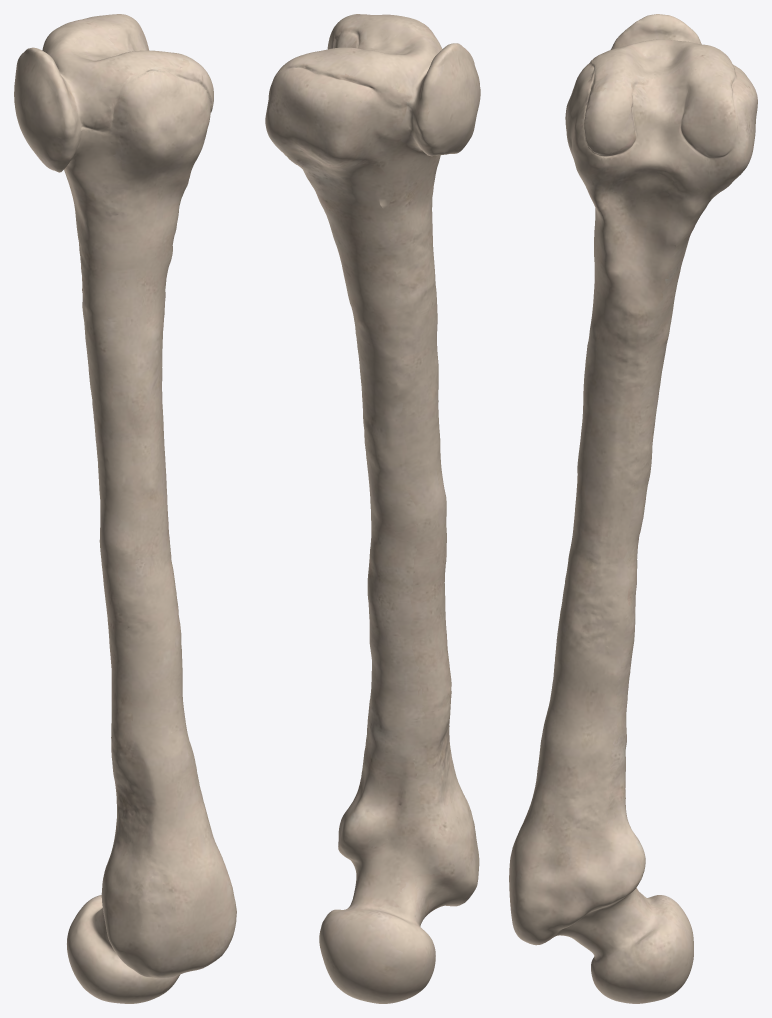
Rendered from bone_upper_leg_left.gltf.
3 views of the same model, side by side, from view 1: azimuth 30°, elevation 25°; view 2: azimuth 150°, elevation 25°; view 3: azimuth 270°, elevation 25° (orthographic). The views are drawn at different scales.
Parts seen in each view (by area): view 1: Oberschenkelknochen_L002_166; view 2: Oberschenkelknochen_L002_166; view 3: Oberschenkelknochen_L002_166.
Part boxes in pixels (box(x1,y1,x2,y2)): Oberschenkelknochen_L002_166: box(14, 14, 236, 1003); Oberschenkelknochen_L002_166: box(265, 14, 480, 1003); Oberschenkelknochen_L002_166: box(509, 14, 757, 1003).
Size of the model in its own units: 0.3404 by 1.93 by 0.4589.
1 material, 1 textured.
